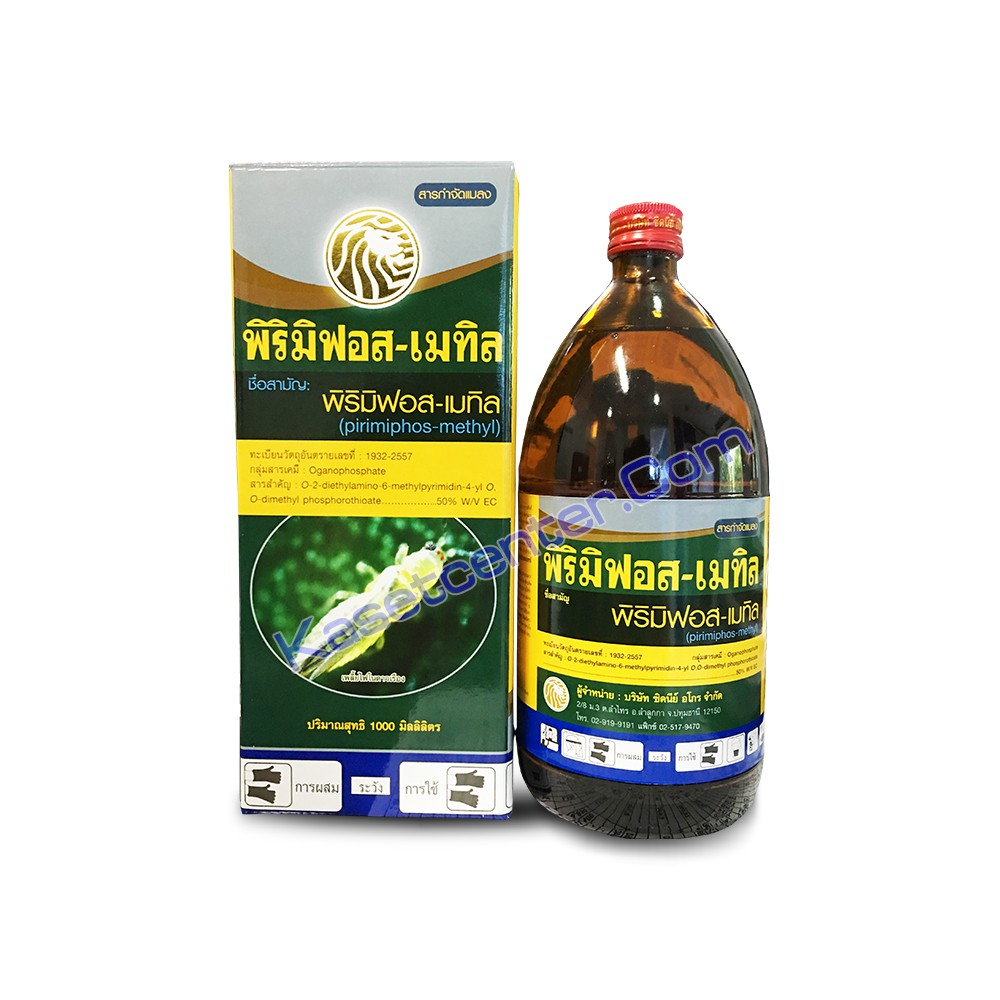Insecticide: (509, 190, 783, 849)
